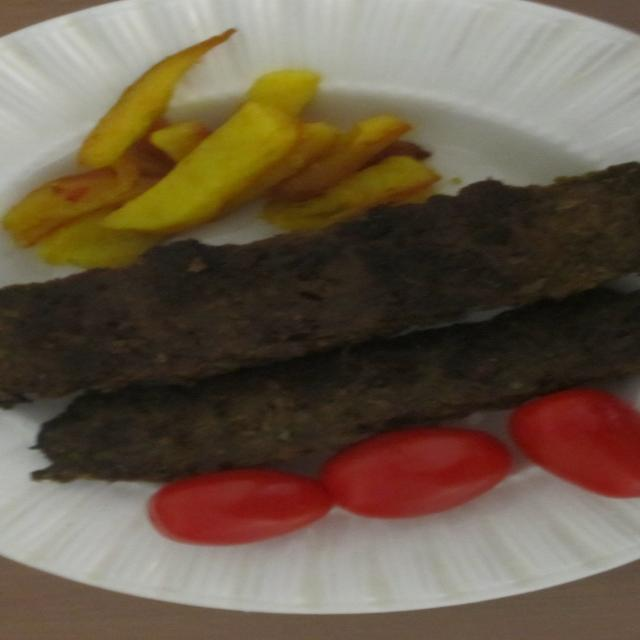cutlet: (32, 240, 636, 414)
potato: (41, 52, 403, 222)
tomato: (133, 434, 531, 546)
